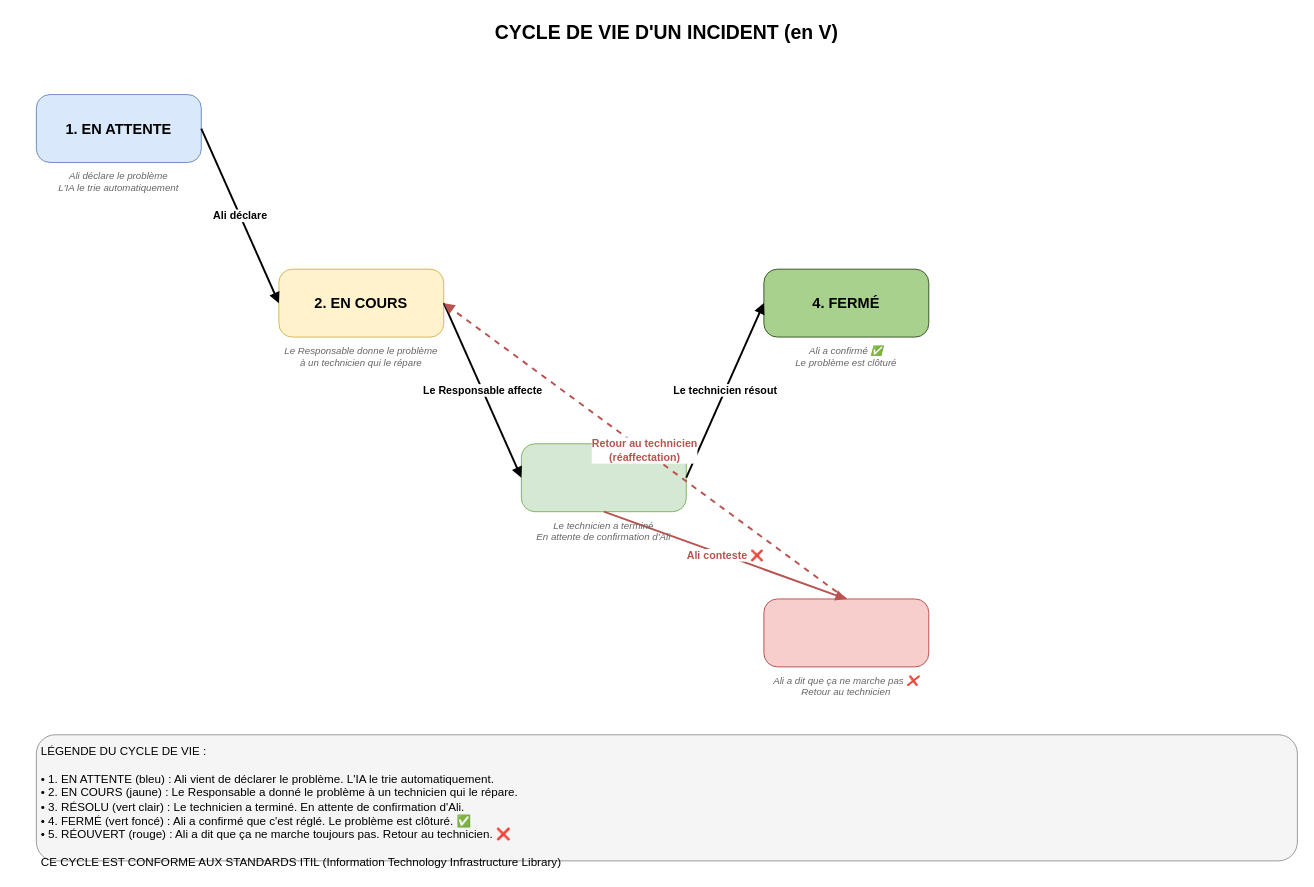
Image size: 1314x887. Some labels were removed from this diagram. The centre of each missing label's shape, as x and y in pixels:
3. RÉSOLU: the point at 603,477
5. RÉOUVERT: the point at 846,632
